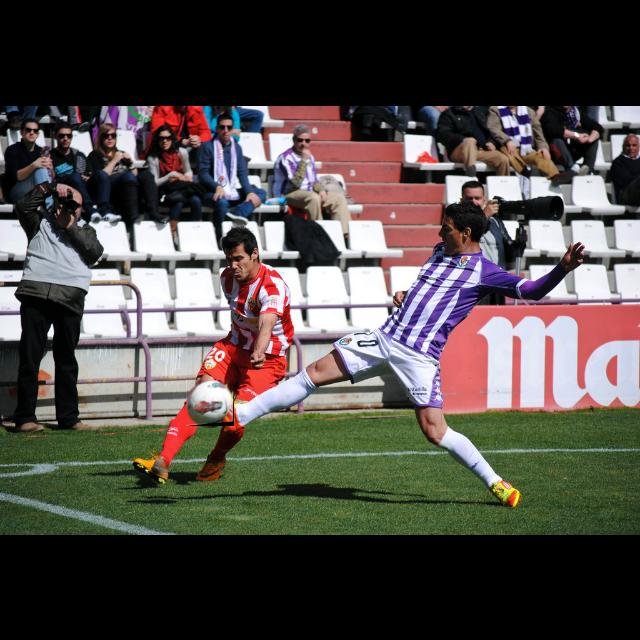Football: (186, 380, 234, 426)
